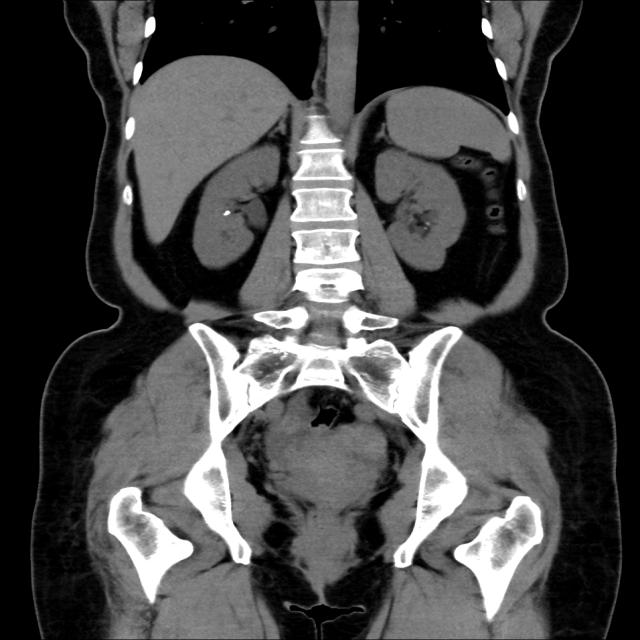kidneystone: (226, 211, 239, 218)
